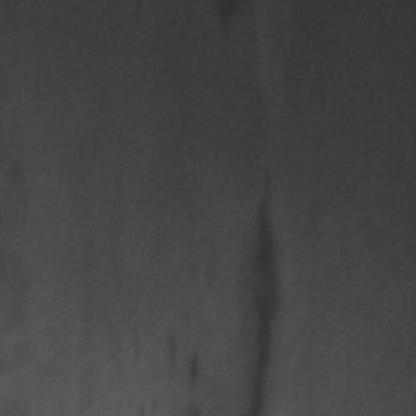inclusion: (220, 162, 281, 410), (154, 323, 204, 394), (210, 0, 252, 71)
